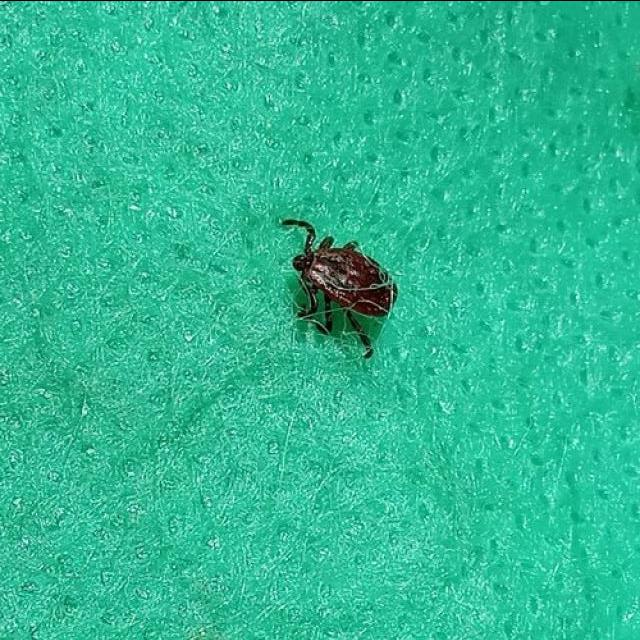Dermacentor Reticulatus-F: (283, 219, 397, 357)
